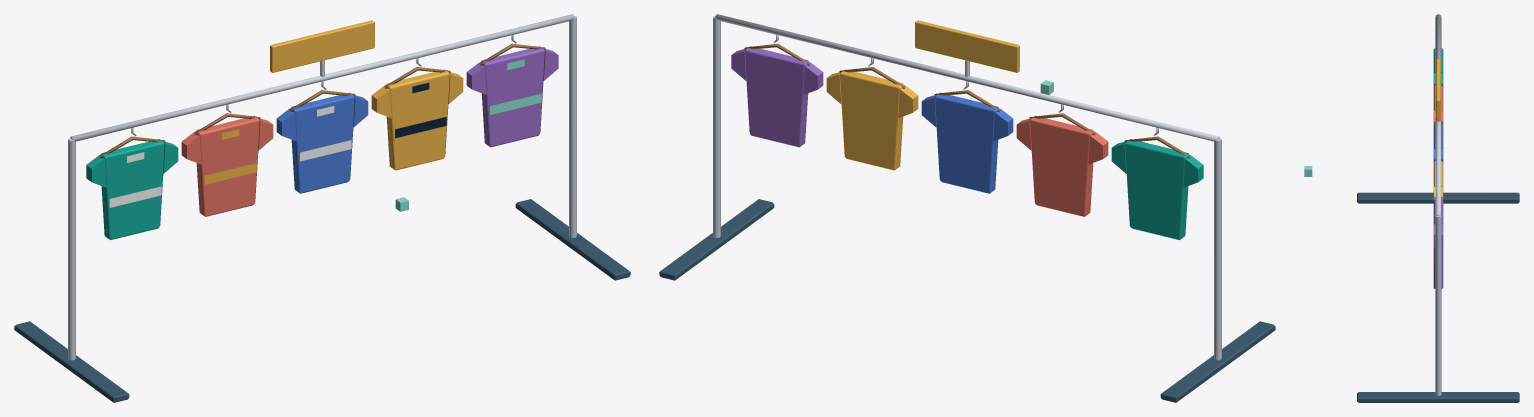
File: CM_Fixture_ClothingRack.fbx
3 renders of one model, left to right at view 1: azimuth 30°, elevation 25°; view 2: azimuth 150°, elevation 25°; view 3: azimuth 270°, elevation 25°, orthographic. The views are drawn at different scales.
Parts seen in each view (by area): view 1: Body, Item4, Item5, Item1, Item3, Item2, PriceTag; view 2: Body, Item4, Item5, Item3, Item1, Item2, PriceTag; view 3: Body, Item5, PriceTag, Item1, Item2, Item3, Item4.
Boxes of the visible parts, <box> form: Body: <box>14,14,630,402</box>; Item4: <box>371,58,463,170</box>; Item5: <box>466,34,558,147</box>; Item1: <box>86,127,178,240</box>; Item3: <box>276,81,368,193</box>; Item2: <box>181,104,273,216</box>; PriceTag: <box>270,20,374,72</box>; Body: <box>659,14,1275,402</box>; Item4: <box>826,58,918,170</box>; Item5: <box>731,34,823,147</box>; Item3: <box>921,81,1013,193</box>; Item1: <box>1111,127,1203,240</box>; Item2: <box>1016,104,1108,216</box>; PriceTag: <box>915,20,1019,72</box>; Body: <box>1357,14,1519,402</box>; Item5: <box>1433,199,1443,288</box>; PriceTag: <box>1436,59,1440,121</box>; Item1: <box>1433,47,1443,86</box>; Item2: <box>1433,85,1443,124</box>; Item3: <box>1433,123,1443,162</box>; Item4: <box>1433,161,1443,200</box>.
Size of the model in its own units: 12 by 5.3 by 6.
1 material, 1 textured.
